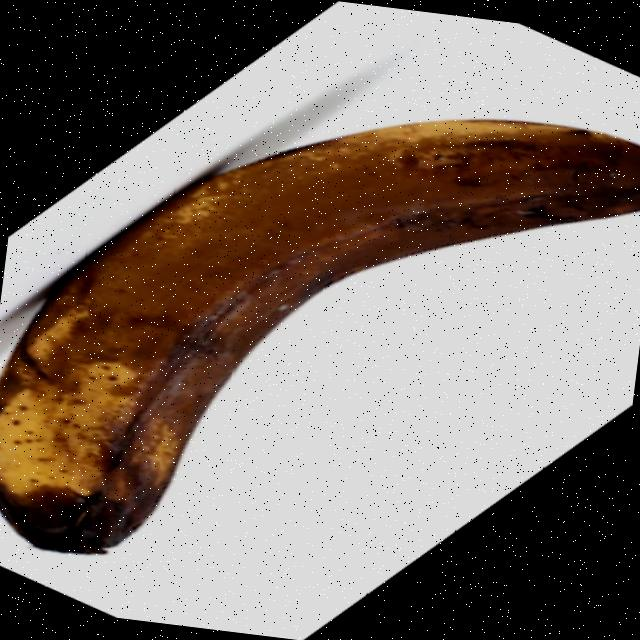Rotten: (0, 60, 640, 619)
